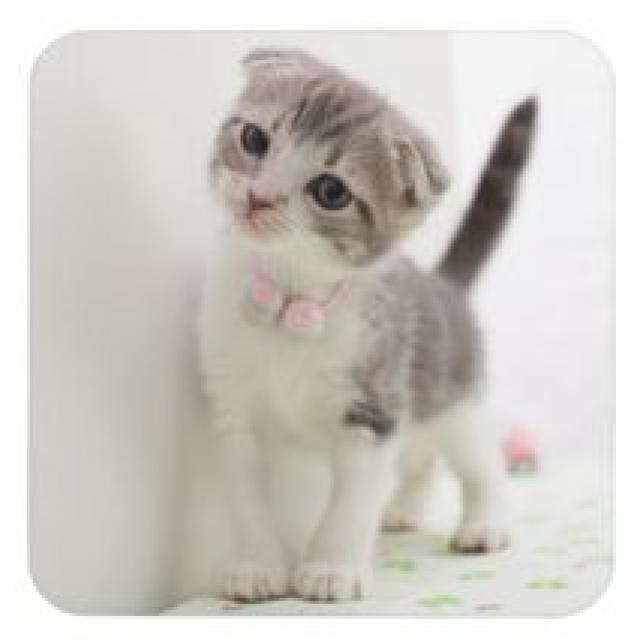Scottish Fold: (191, 43, 545, 602)
